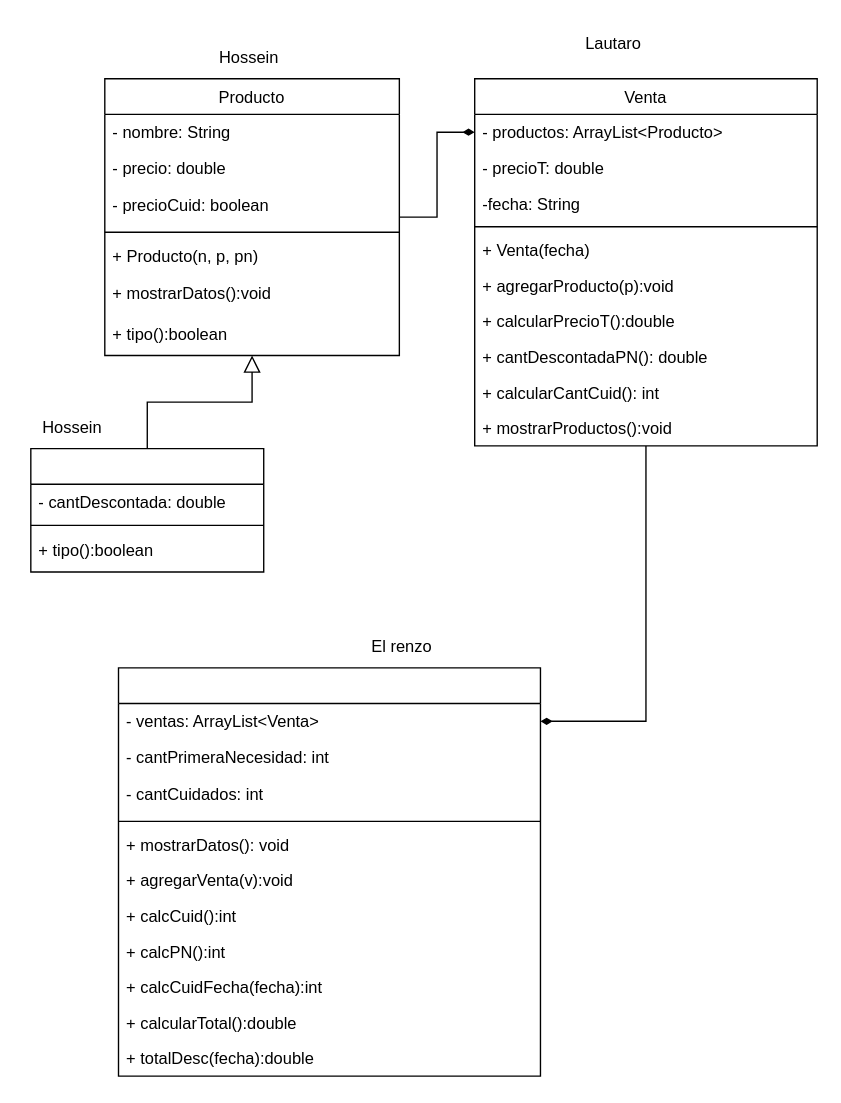
The diagram is 841 pixels wide and 1103 high, and some of its shapes have lost their labels. The box of each missing label's shape, as (x1, y1, x2, y2) in pixels:
ProductoPN: (29, 447, 264, 572)
Super: (117, 667, 540, 1076)
